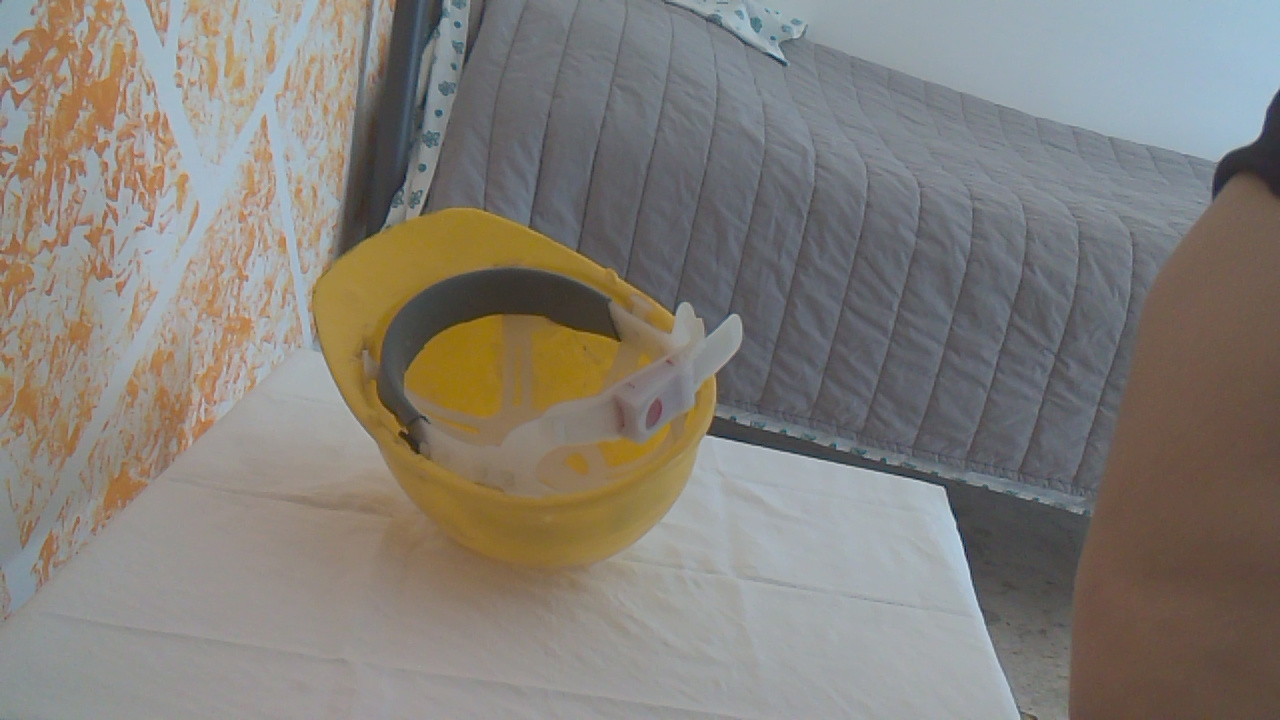Helmet: (316, 206, 751, 573)
